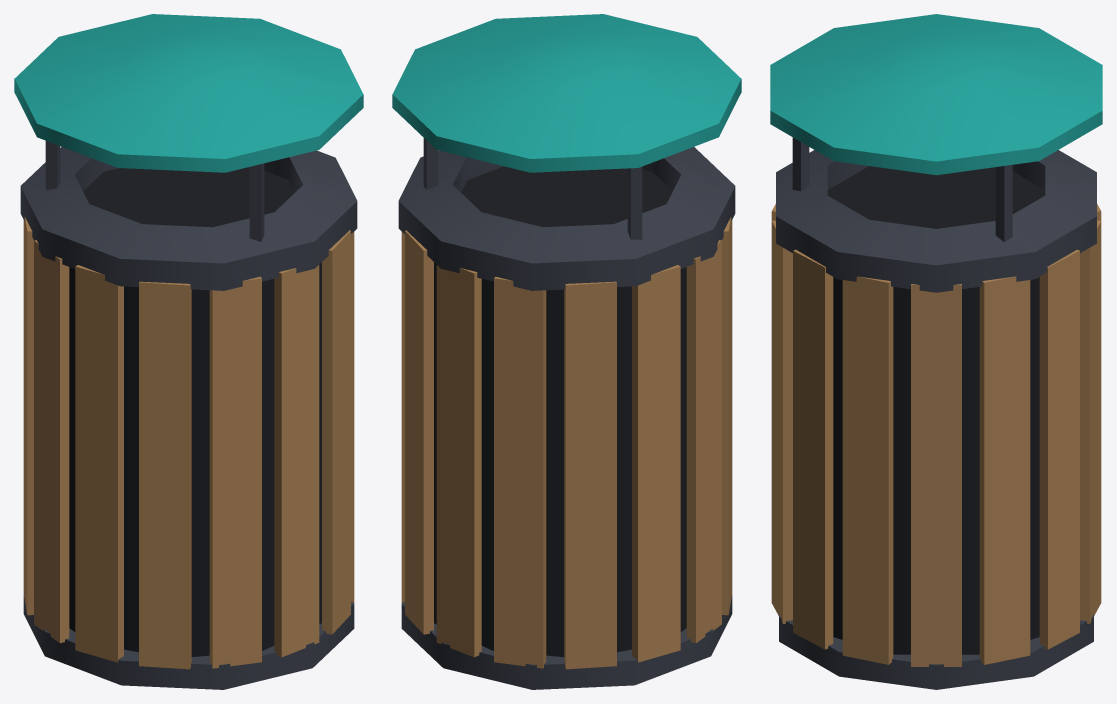
Rendered from bin.glb.
The picture shows the model from 3 angles, left to right: view 1: azimuth 30°, elevation 25°; view 2: azimuth 150°, elevation 25°; view 3: azimuth 270°, elevation 25°; orthographic projection.
Visible parts, largest first — view 1: bin; view 2: bin; view 3: bin.
Part boxes in pixels (box(x1,y1,x2,y2)): bin: box(14, 14, 363, 689); bin: box(392, 14, 741, 689); bin: box(770, 14, 1102, 689).
Size of the model in its own units: 0.58 by 1.1 by 0.5516.
